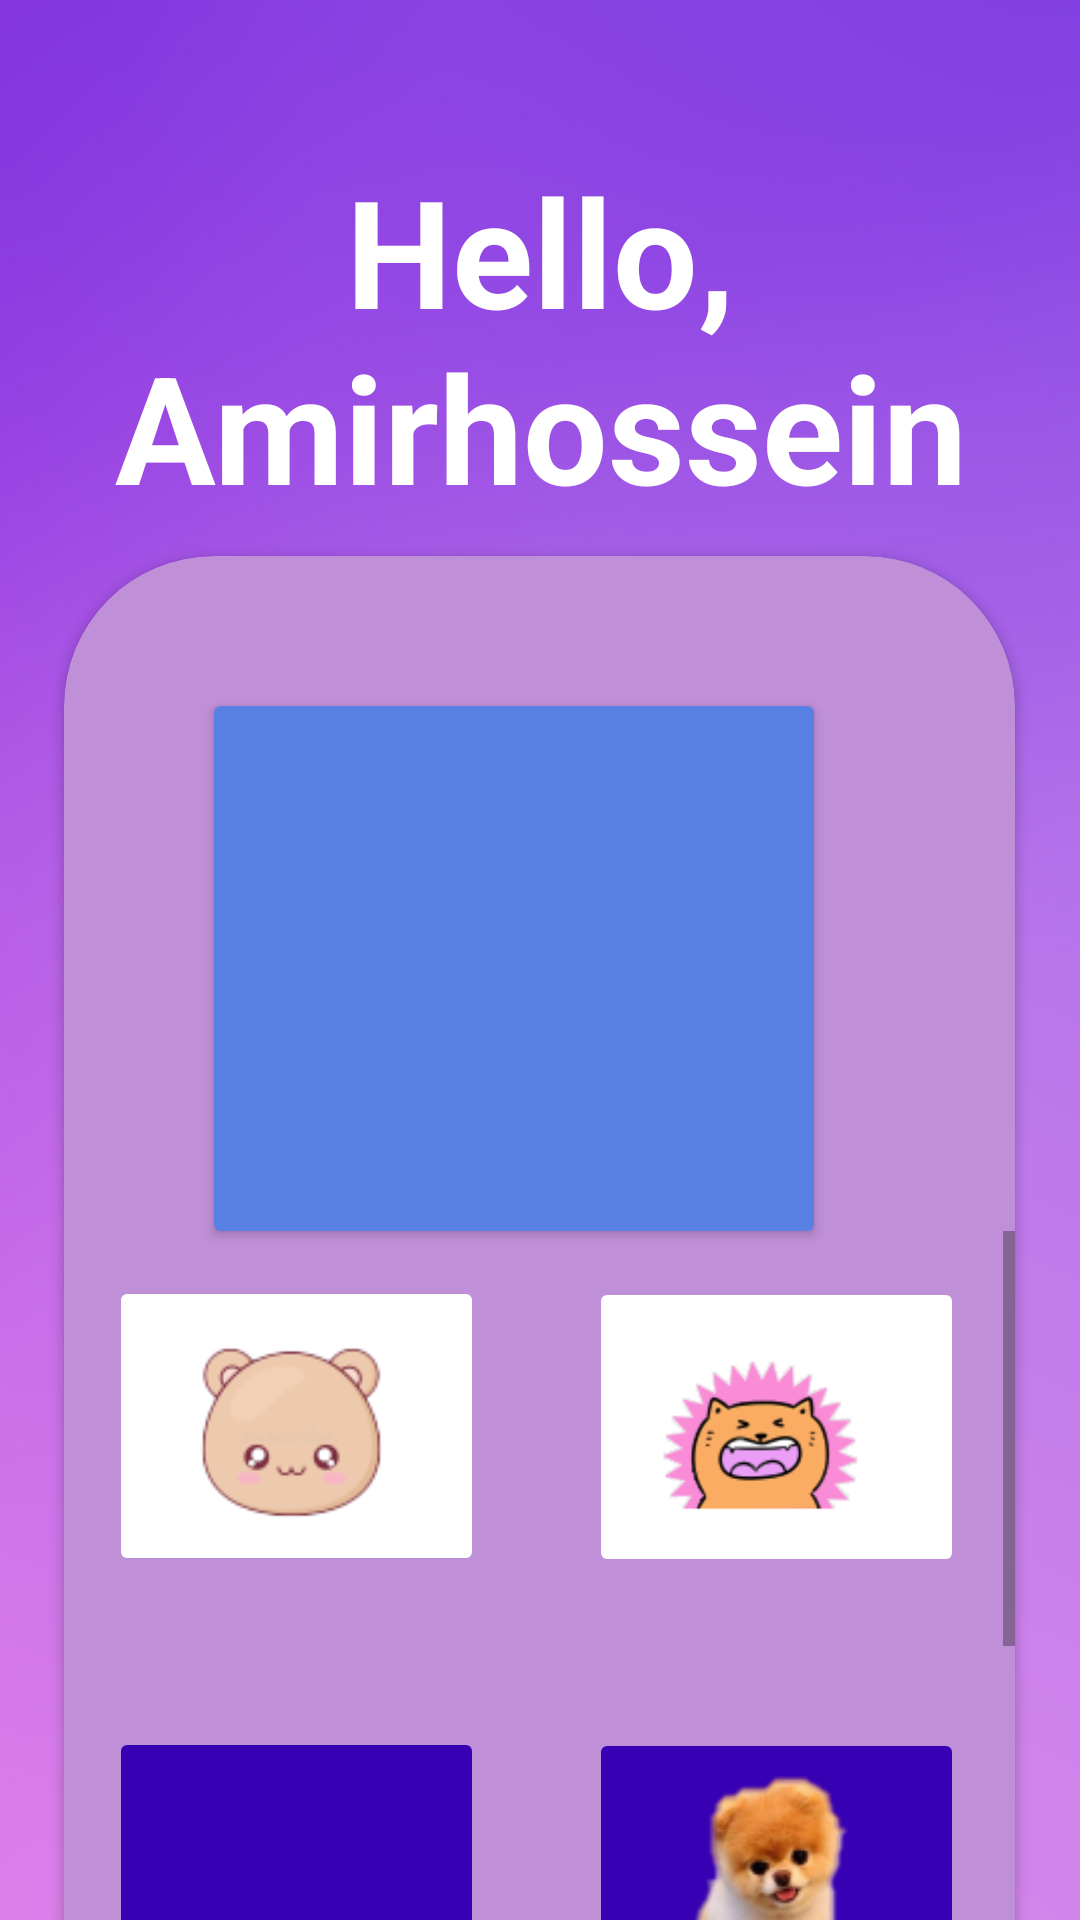

Point at icon controls on the screen. Image size 1080x1920, points as [x,y].
cartooncat: [776,1427]
